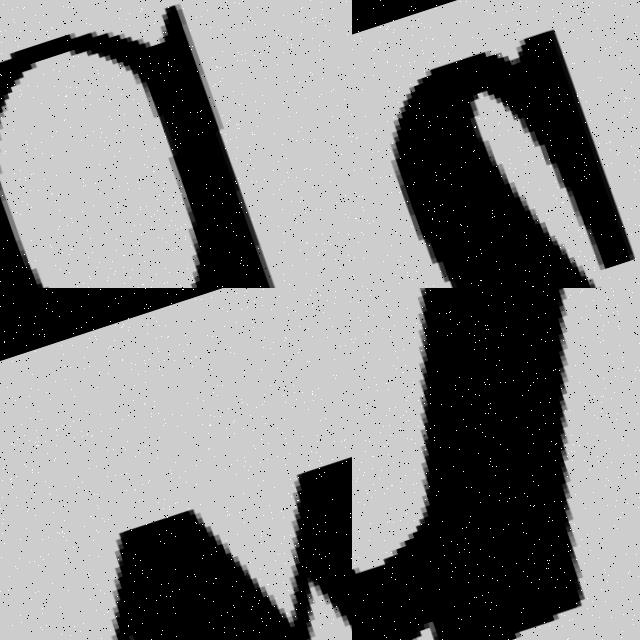B: (0, 5, 273, 288)
N: (352, 288, 640, 640)
S: (357, 19, 640, 288)
W: (0, 403, 352, 640)
